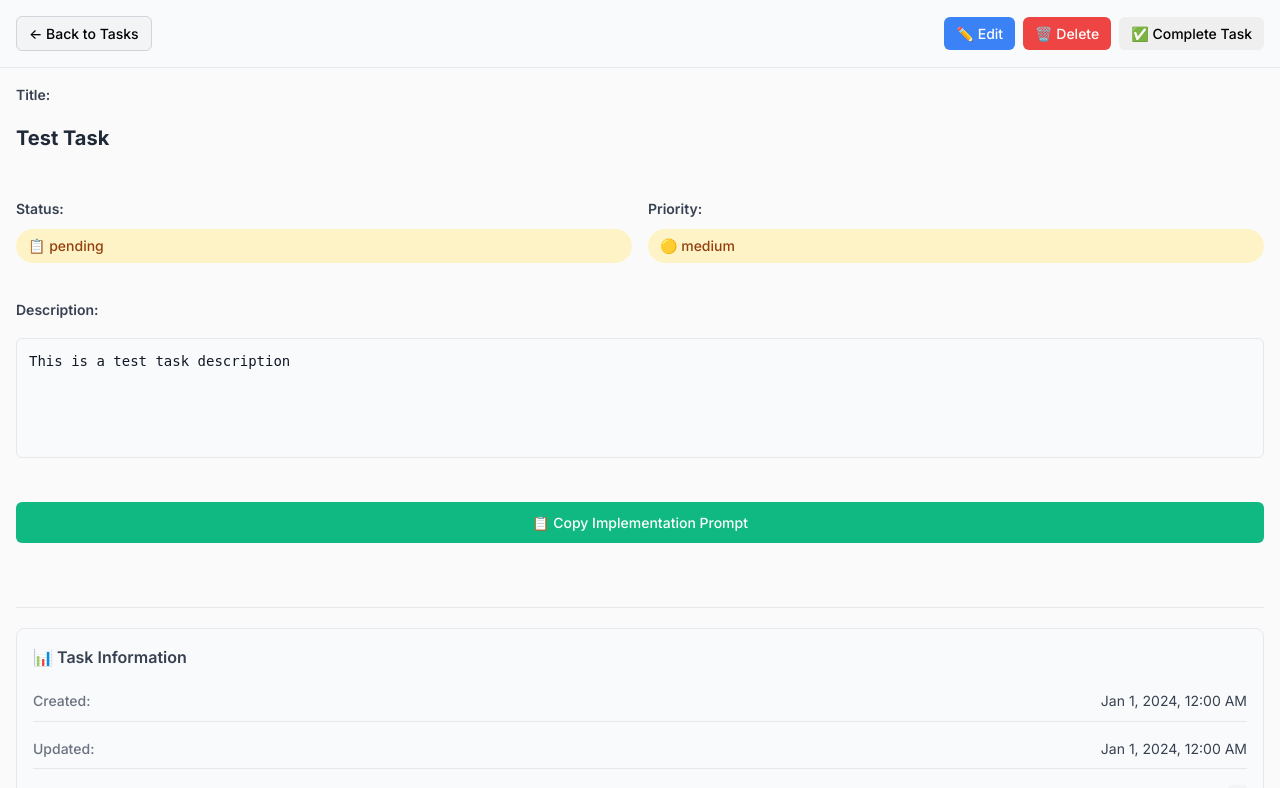
Scenario: TaskDetailsView › edit button toggles edit mode
This screenshot has width=1280, height=788.
Click the button "✏️ Edit".
click(980, 34)  # box [944,17,1015,50]
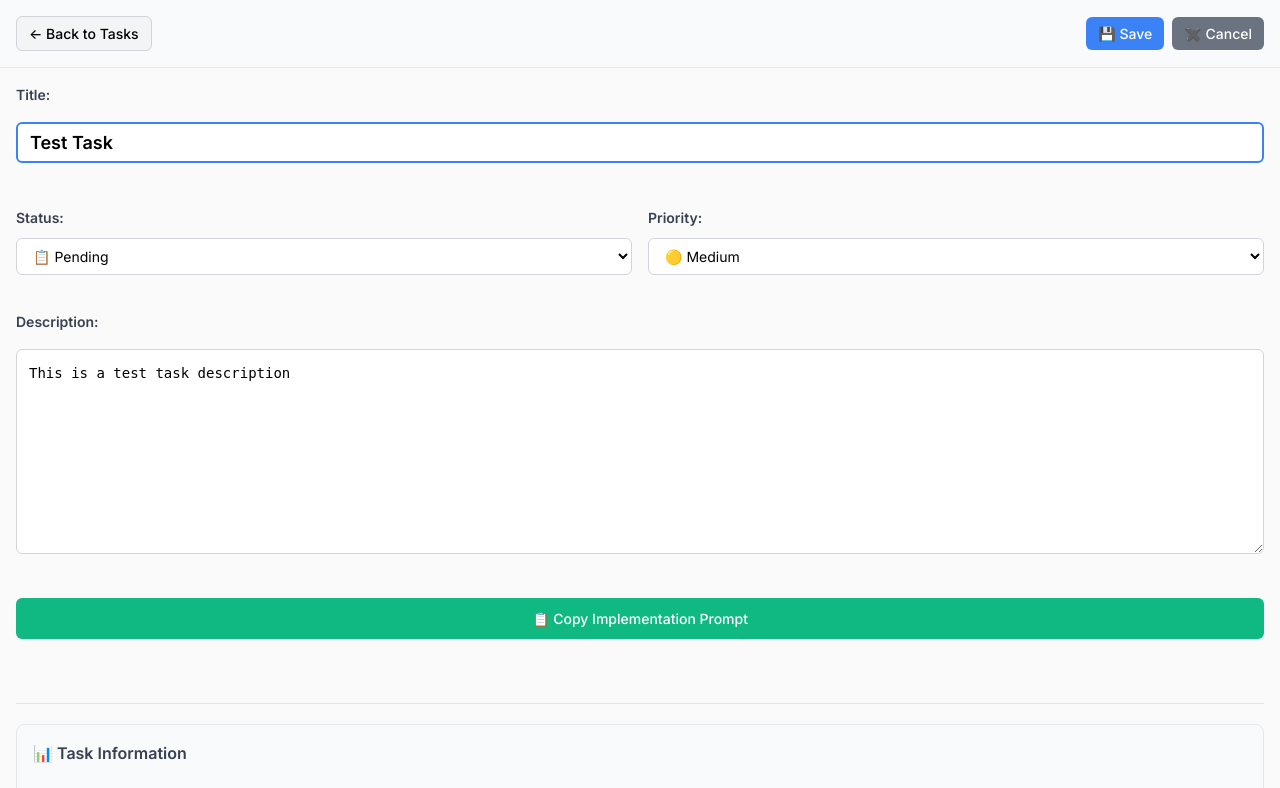
Result: the button "💾 Save" is shown at [1086,17,1164,50]
Result: the button "✖️ Cancel" is shown at [1172,17,1264,50]
Result: the field showing "Test Task" is shown at [16,122,1264,163]
